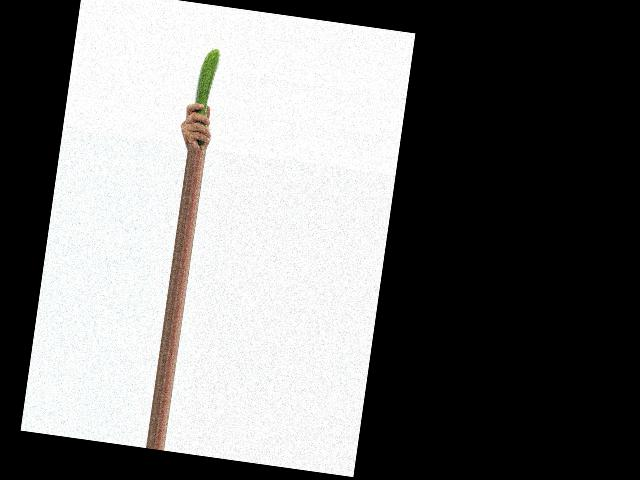cucumber: (188, 46, 221, 150)
